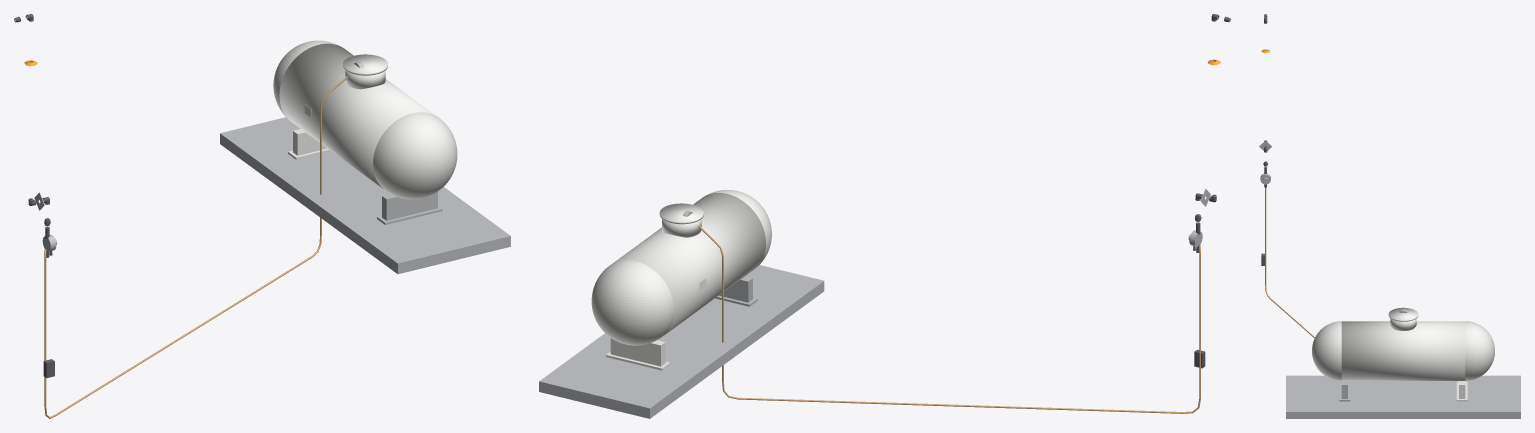
Rendered from slab_pipes_gas__gas-propane.glb.
The picture shows the model from 3 angles, left to right: view 1: azimuth 30°, elevation 25°; view 2: azimuth 150°, elevation 25°; view 3: azimuth 270°, elevation 25°; orthographic projection. The views are drawn at different scales.
Visible parts, largest first — view 1: fix_propane_tank, pipe_gas_propane_service, fix_propane_regulator; view 2: fix_propane_tank, pipe_gas_propane_service; view 3: fix_propane_tank, pipe_gas_propane_service.
Boxes of the visible parts, <box> form: fix_propane_tank: <box>220,40,510,274</box>; pipe_gas_propane_service: <box>44,76,348,418</box>; fix_propane_regulator: <box>42,226,56,378</box>; fix_propane_tank: <box>539,190,824,418</box>; pipe_gas_propane_service: <box>698,225,1200,413</box>; fix_propane_tank: <box>1286,307,1520,418</box>; pipe_gas_propane_service: <box>1265,188,1314,337</box>.
Size of the model in its own units: 4.98 by 3.83 by 3.34.
